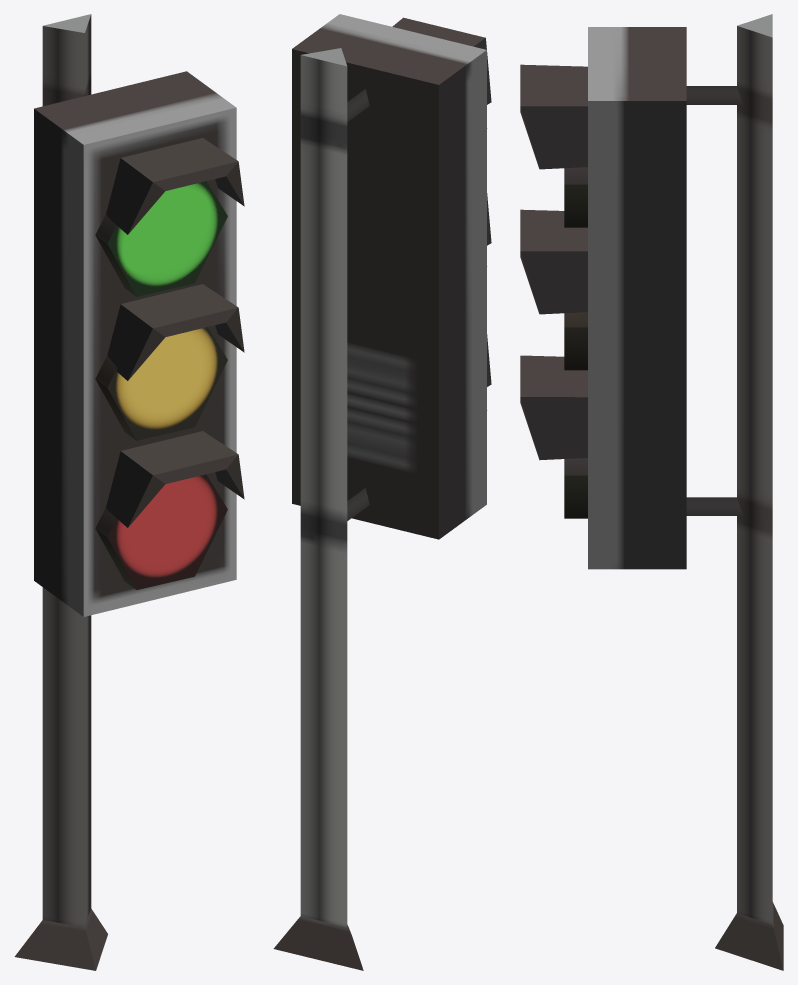
The model's file is trafficlight.FBX.
3 views of the same model, side by side, from view 1: azimuth 30°, elevation 25°; view 2: azimuth 150°, elevation 25°; view 3: azimuth 270°, elevation 25° (orthographic). The views are drawn at different scales.
Visible parts, largest first — view 1: Cylinder001, Cylinder004, Cylinder002, Cylinder003; view 2: Cylinder001; view 3: Cylinder001, Cylinder004, Cylinder002, Cylinder003.
Boxes of the visible parts, left/top/right/bottom form: Cylinder001: left=14, top=14, right=244, bottom=970; Cylinder004: left=95, top=474, right=227, bottom=589; Cylinder002: left=95, top=181, right=227, bottom=296; Cylinder003: left=95, top=327, right=227, bottom=440; Cylinder001: left=273, top=14, right=491, bottom=970; Cylinder001: left=520, top=14, right=783, bottom=970; Cylinder004: left=564, top=458, right=587, bottom=518; Cylinder002: left=564, top=167, right=587, bottom=227; Cylinder003: left=564, top=312, right=587, bottom=370.
Bounding box in the file's own units: 7.64 × 44.38 × 11.48.
